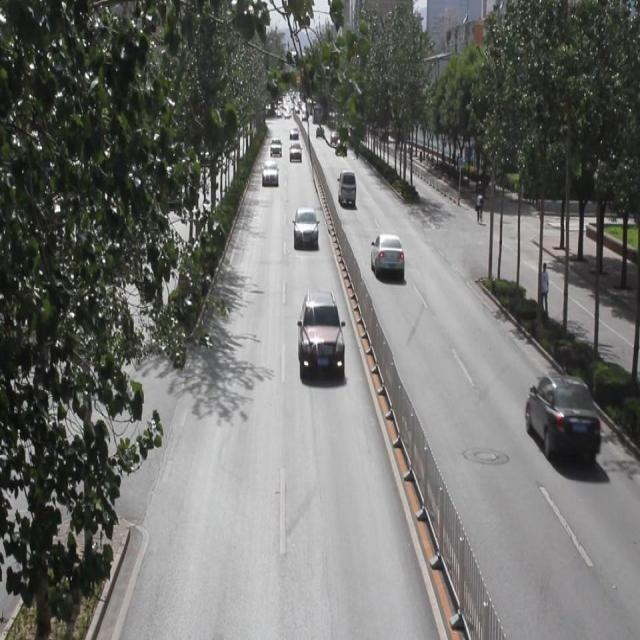car: (523, 371, 599, 468), (297, 290, 344, 374), (371, 231, 403, 282), (292, 207, 318, 252), (261, 158, 278, 190), (288, 142, 302, 164), (268, 136, 282, 158), (334, 139, 346, 157), (288, 125, 299, 144), (314, 125, 324, 139), (330, 130, 340, 144)
truck: (337, 168, 356, 208)
